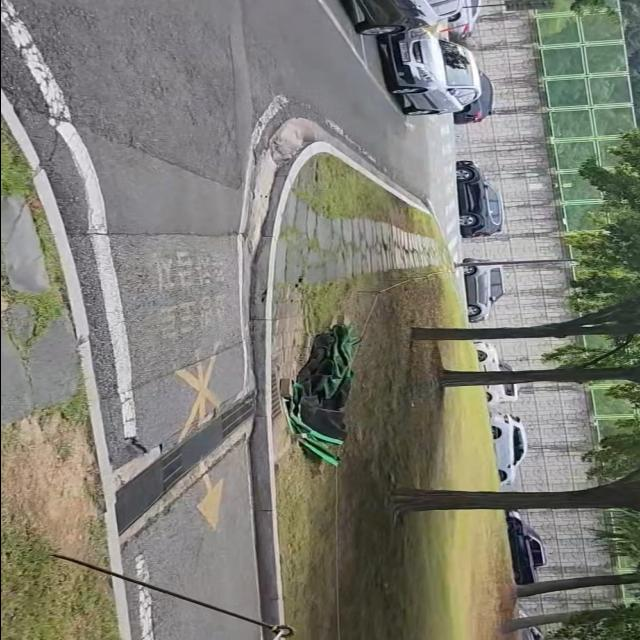obstacle: (369, 22, 480, 126), (330, 0, 471, 50)
road: (24, 0, 445, 220)
